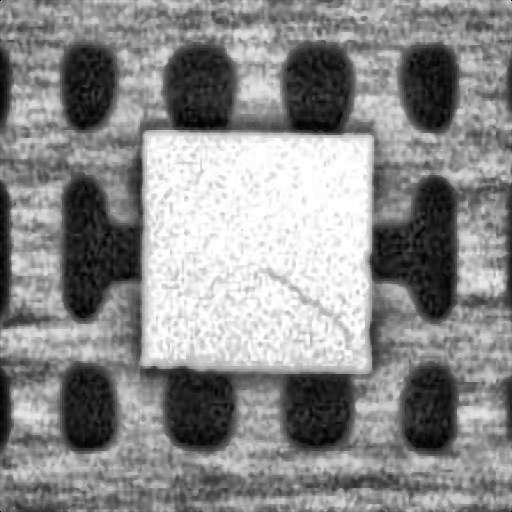DIE_CRACK: (262, 270, 353, 340)
